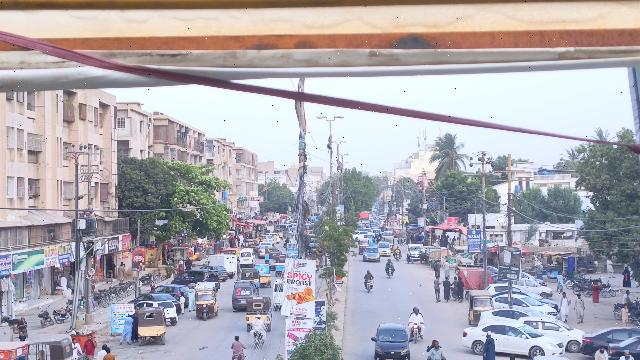Bike: (408, 322, 425, 346), (250, 331, 267, 347), (449, 286, 465, 303), (363, 277, 374, 294), (385, 266, 396, 279)
Car: (461, 321, 565, 355), (519, 314, 585, 351), (579, 327, 638, 357), (369, 320, 410, 360), (479, 308, 551, 329), (608, 335, 640, 359)
Person: (479, 330, 498, 360), (573, 291, 588, 324), (558, 290, 572, 323), (120, 311, 133, 345), (431, 274, 445, 303), (229, 335, 247, 354), (439, 274, 451, 301), (410, 306, 424, 325), (251, 314, 266, 331), (364, 268, 374, 279), (452, 276, 459, 291), (457, 276, 464, 290), (386, 257, 393, 267)
Rickshaw: (136, 305, 169, 347), (244, 295, 272, 333), (193, 282, 220, 321), (465, 289, 492, 322)
Truck: (209, 254, 239, 276)
Van: (232, 280, 258, 312), (272, 279, 283, 311)
